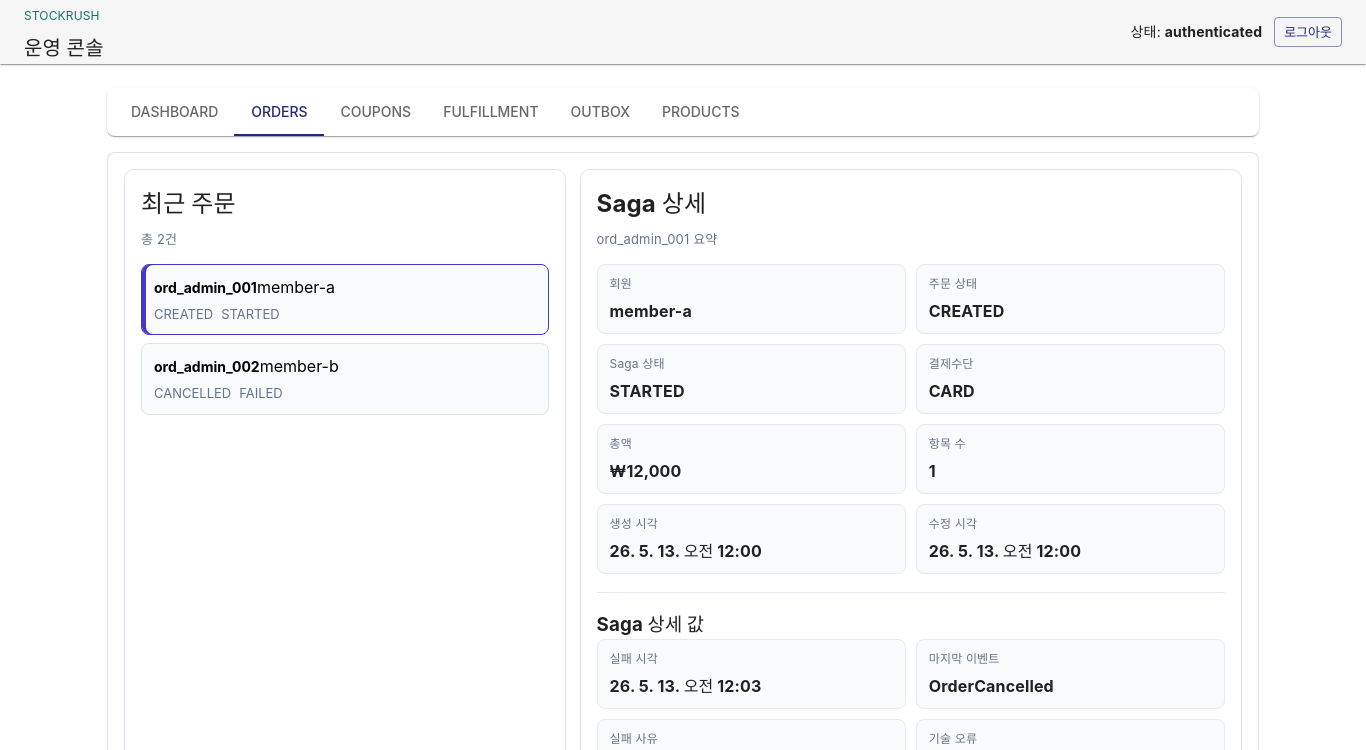
Test: admin app operations › validates non-positive product list price: 0
The width and height of the screenshot is (1366, 750).
Click the tab "Products" at (701, 112), box left=646, top=88, right=756, bottom=136
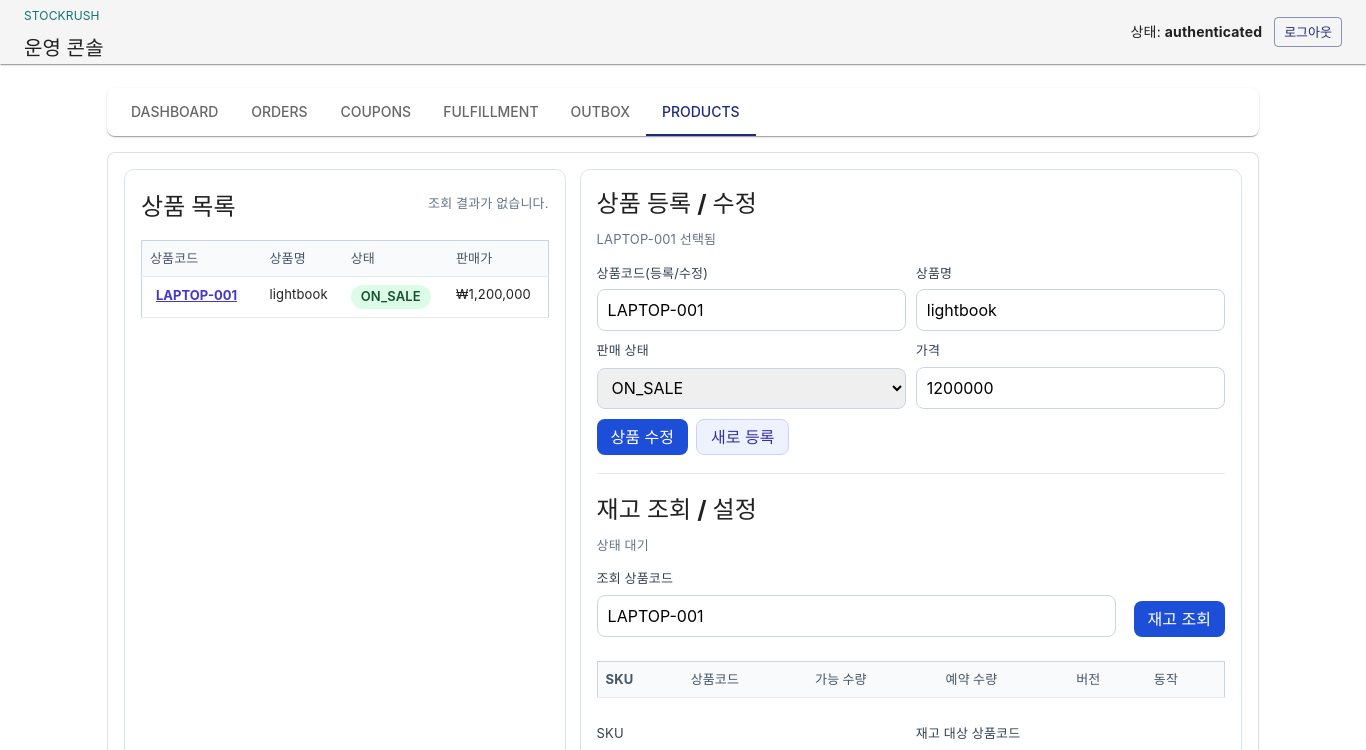
Expected: the button "LAPTOP-001" is shown, left=150, top=285, right=243, bottom=306
Click the button "새로 등록" at (743, 436), box left=696, top=418, right=789, bottom=454
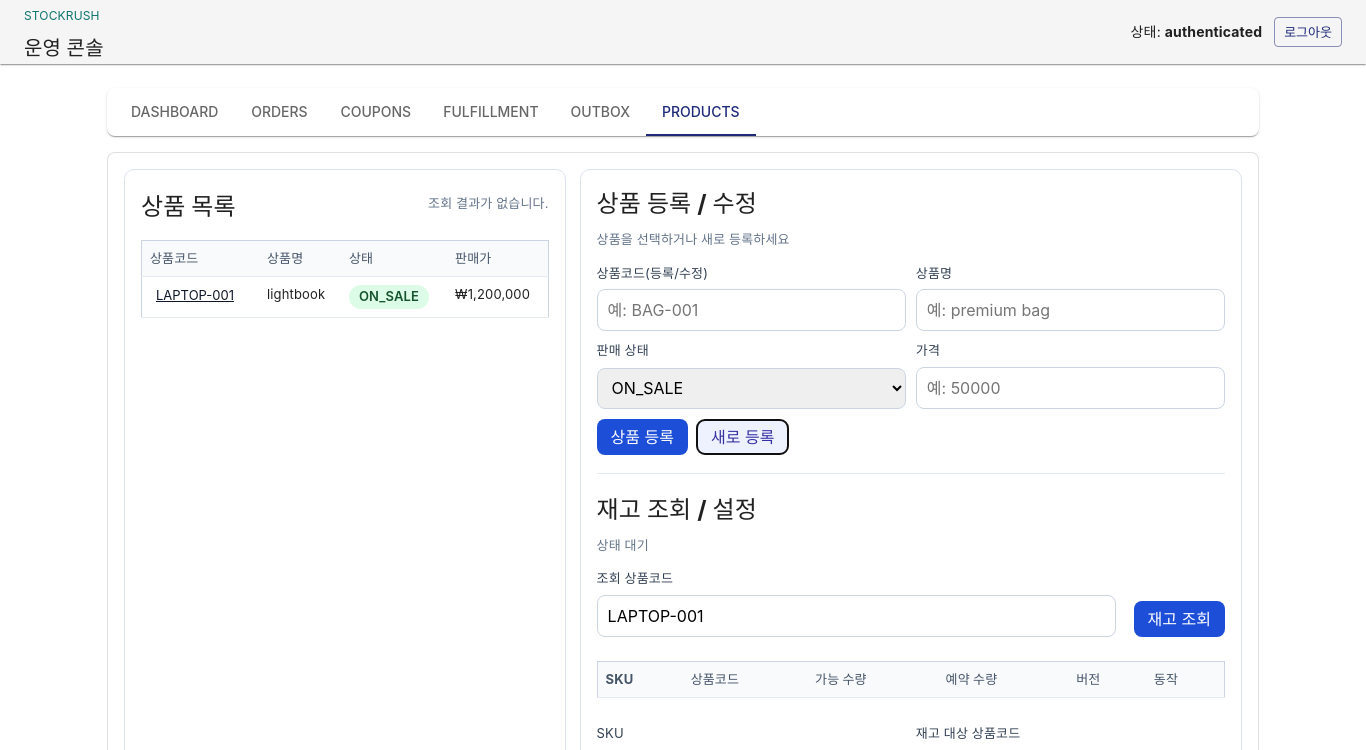
Type "NEW-001" into the field labelled "상품코드(등록/수정)" at (751, 310), box left=597, top=289, right=906, bottom=331
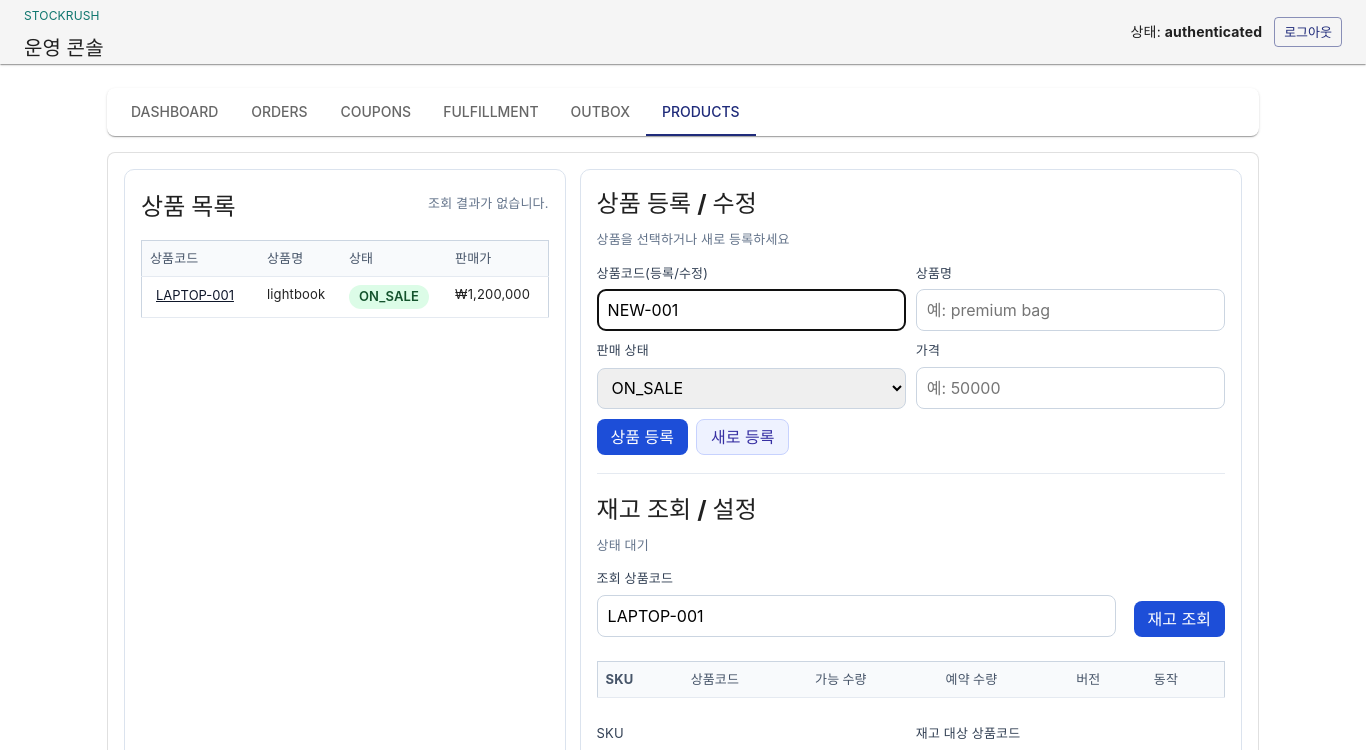
Type "wireless bag" into the field labelled "상품명" at (1070, 310), box left=916, top=289, right=1225, bottom=331
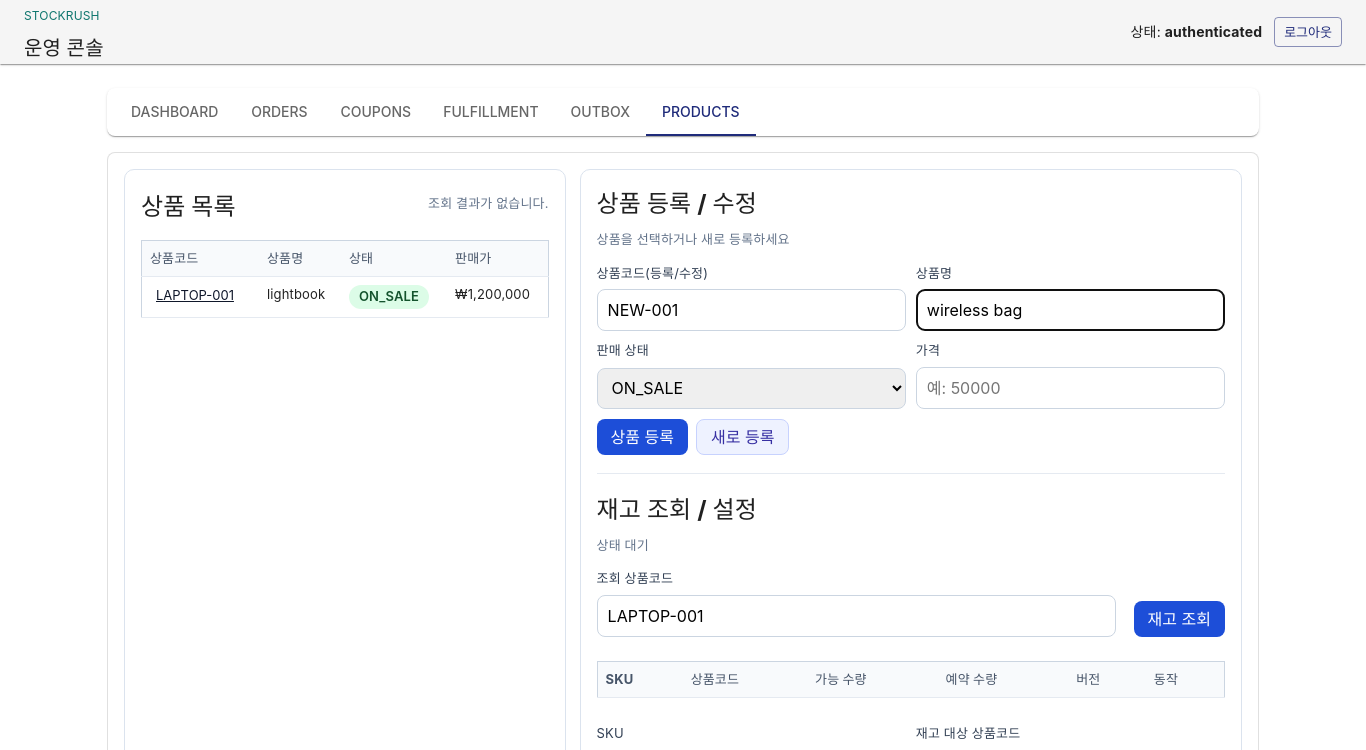
Type "0" into the number field labelled "가격" at (1070, 388), box left=916, top=366, right=1225, bottom=408
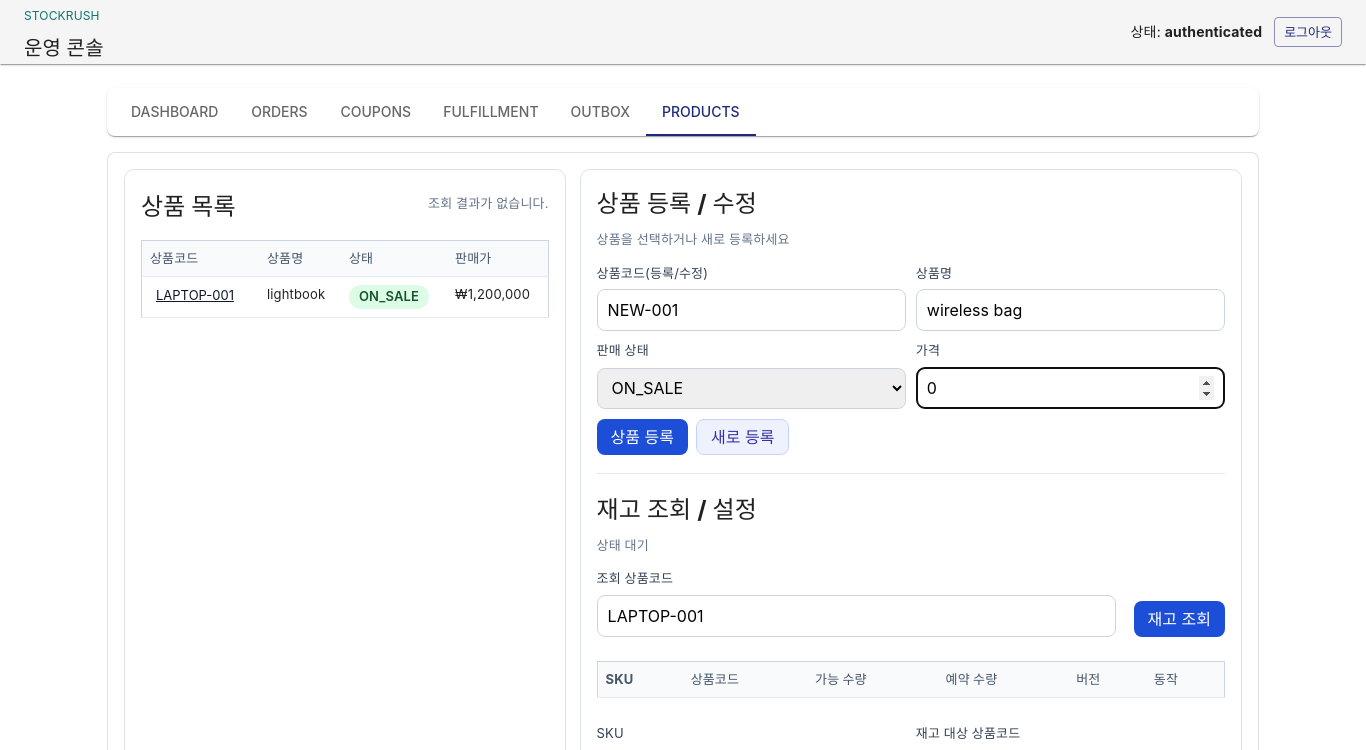
Click the button "상품 등록" at (642, 436), box left=597, top=418, right=688, bottom=454
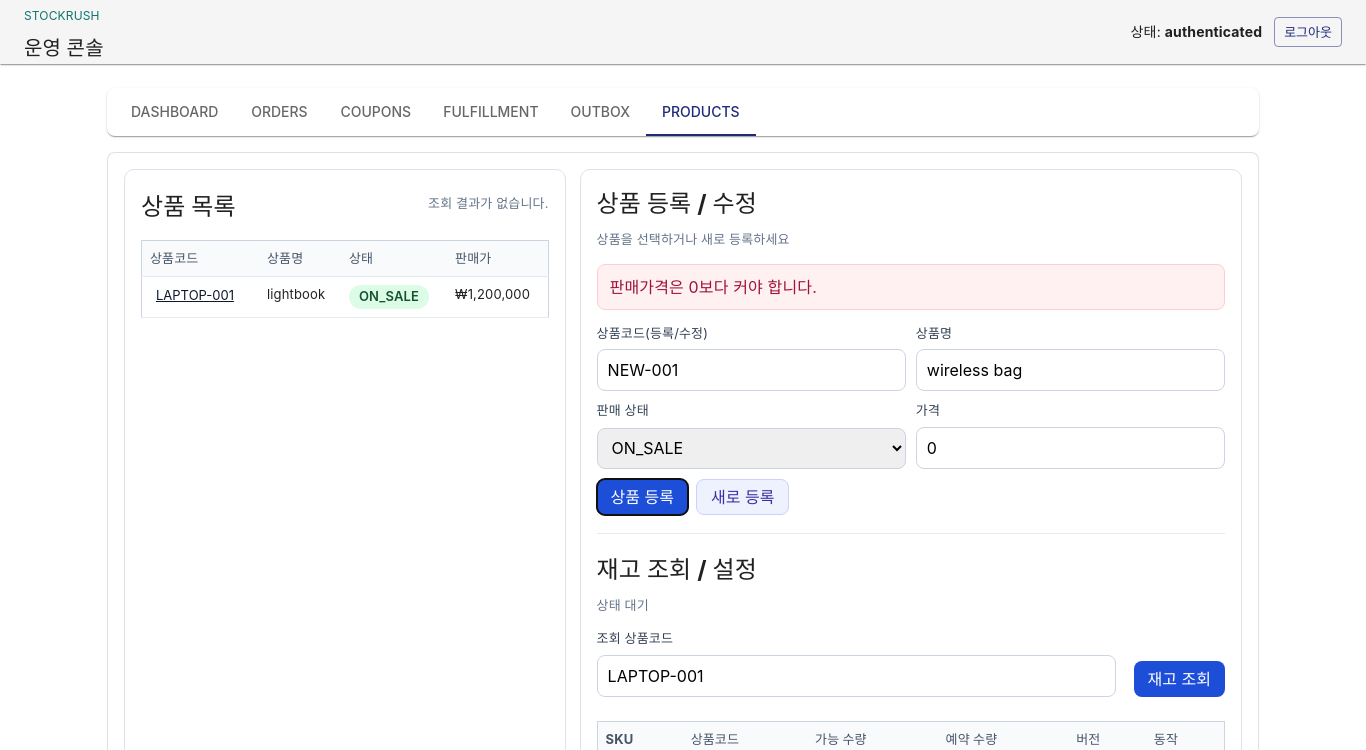
Expected: the message reads "판매가격은 0보다 커야 합니다.", left=610, top=276, right=817, bottom=296
